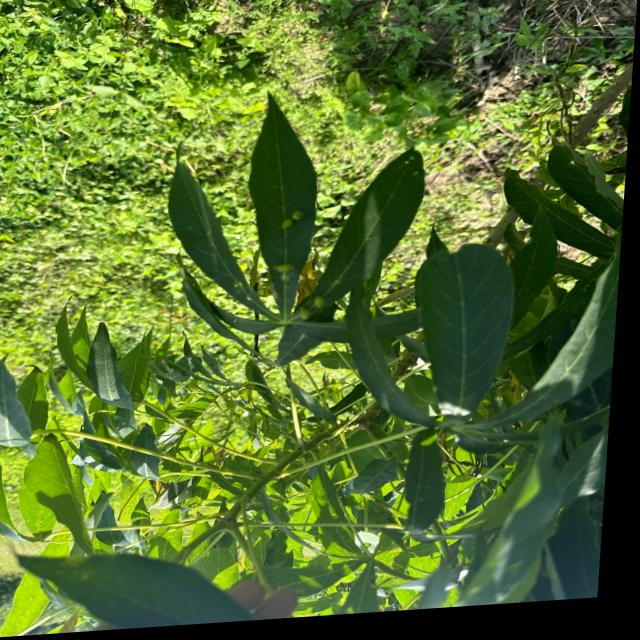Maleza: (227, 0, 556, 132), (0, 1, 238, 146)
Mosca: (267, 254, 304, 284), (280, 198, 308, 231)
